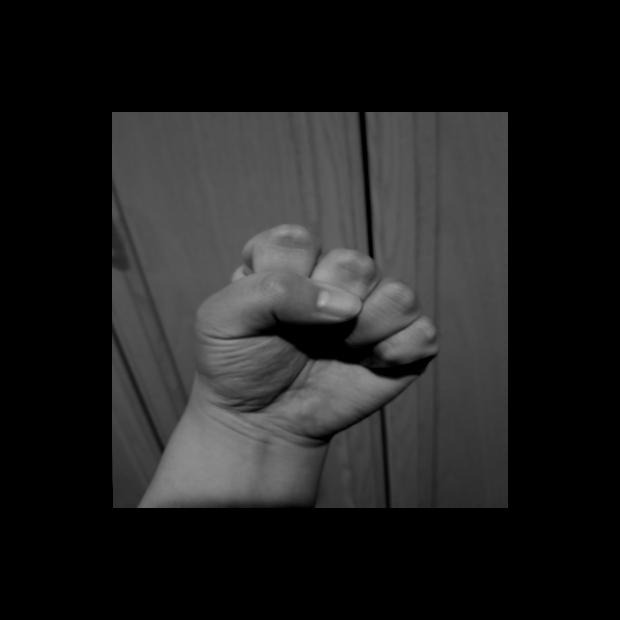R: (175, 210, 453, 448)
